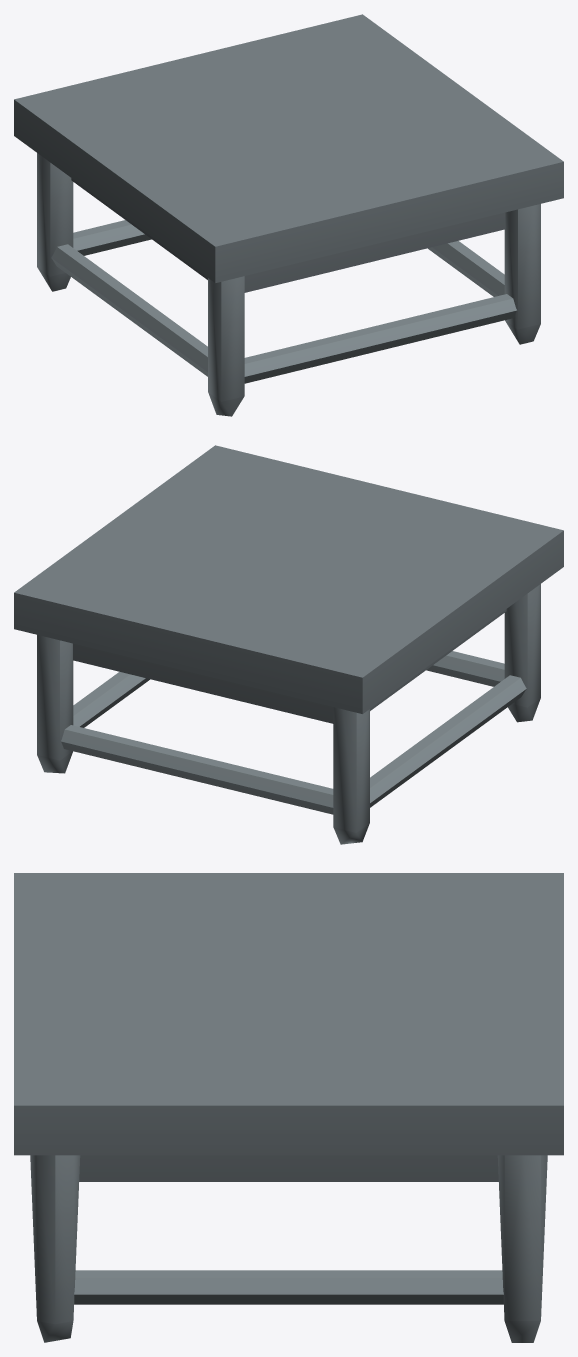
File: cc0-kitchentable-lod1.glb
3 renders of one model, top to bottom at view 1: azimuth 30°, elevation 25°; view 2: azimuth 150°, elevation 25°; view 3: azimuth 270°, elevation 25°, orthographic. The views are drawn at different scales.
Visible parts, largest first — view 1: part_0; view 2: part_0; view 3: part_0.
Boxes of the visible parts, x1,y1,x2,y2 form: part_0: (14, 14, 563, 416); part_0: (14, 445, 563, 844); part_0: (14, 873, 563, 1342).
Bounding box in the file's own units: 2 × 1 × 2.
1 material, 1 textured.
